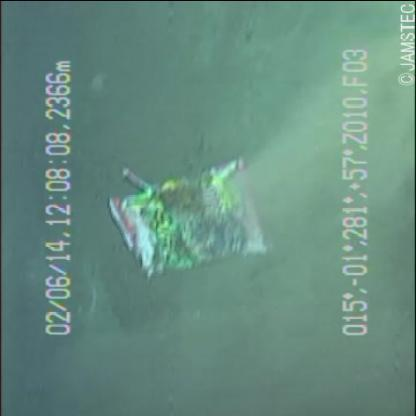Rác: (108, 145, 268, 298)
